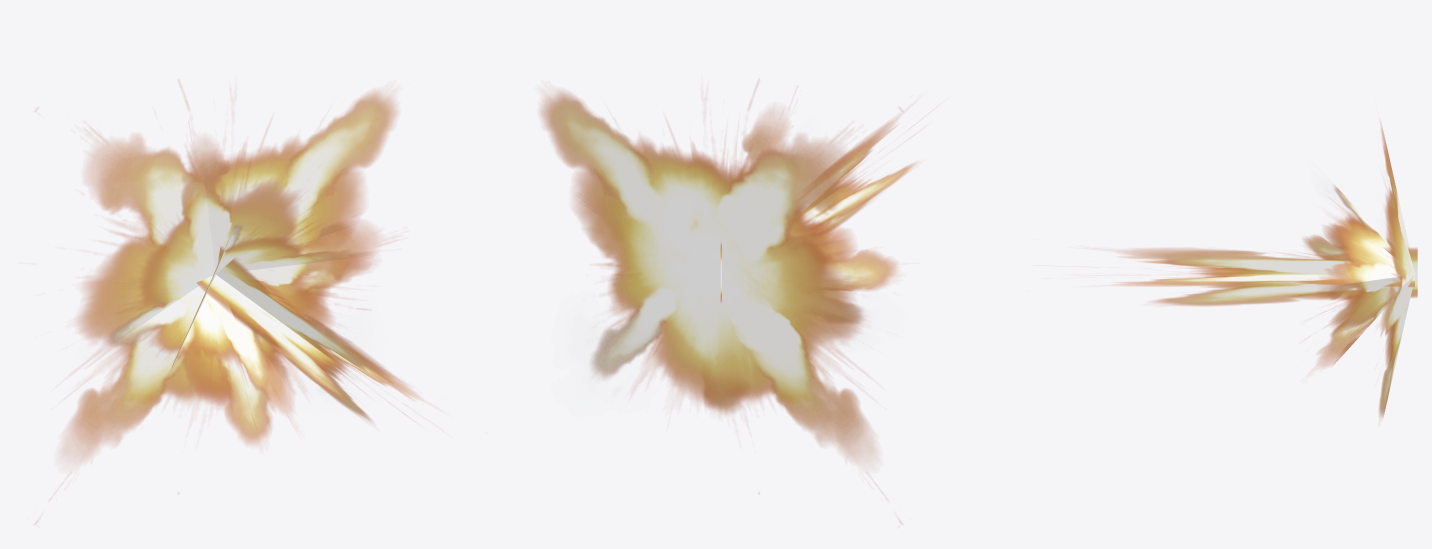
Rendered from muzzleflash.glb.
3 renders of one model, left to right at view 1: azimuth 30°, elevation 25°; view 2: azimuth 150°, elevation 25°; view 3: azimuth 270°, elevation 25°, orthographic. The views are drawn at different scales.
Visible parts, largest first — view 1: muzzle flash; view 2: muzzle flash; view 3: muzzle flash.
Part boxes in pixels (left/top/right/bottom): muzzle flash: left=35, top=80, right=422, bottom=524; muzzle flash: left=539, top=80, right=916, bottom=524; muzzle flash: left=1110, top=124, right=1417, bottom=418.
Size of the model in its own units: 2.95 by 2.95 by 2.95.
1 material, 1 textured.
